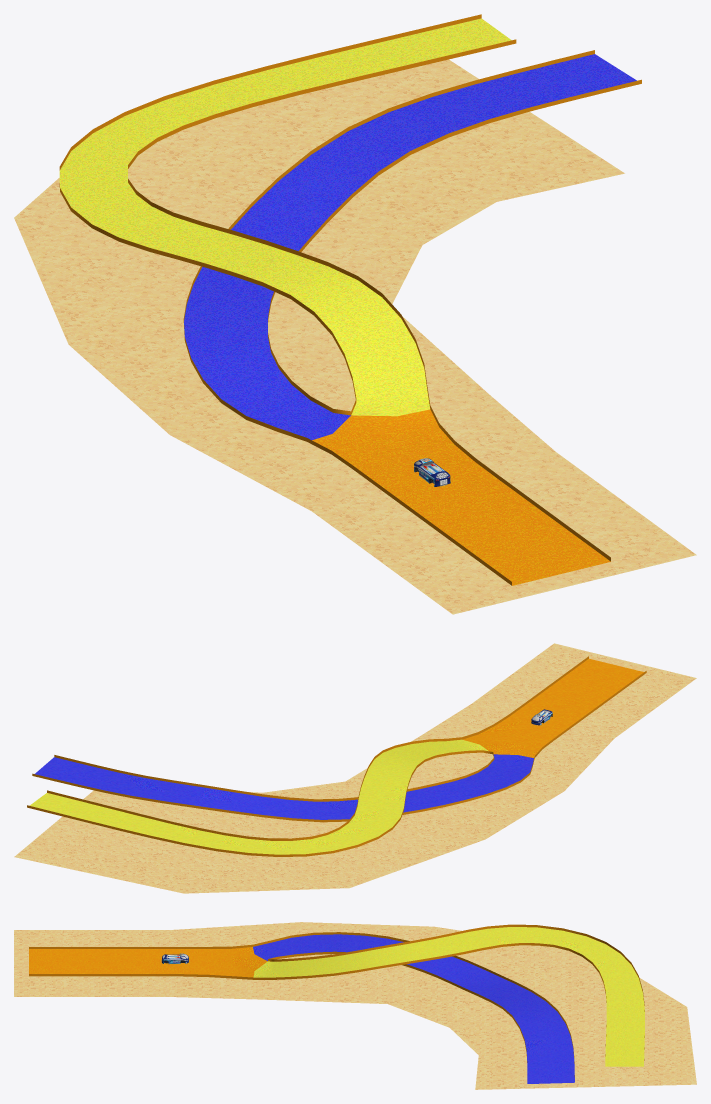
Rendered from Dawn_Encounters.fbx.
3 views of the same model, one above another, from view 1: azimuth 30°, elevation 25°; view 2: azimuth 150°, elevation 25°; view 3: azimuth 270°, elevation 25° (orthographic). The views are drawn at different scales.
Visible parts, largest first — view 1: Ground, Track; view 2: Ground, Track; view 3: Ground, Track.
Boxes of the visible parts, x1,y1,x2,y2 form: Ground: (14,59,696,614); Track: (59,14,641,585); Ground: (14,643,696,893); Track: (27,656,646,856); Ground: (14,922,696,1089); Track: (29,924,644,1083).
Size of the model in its own units: 2716 by 187 by 4236.
